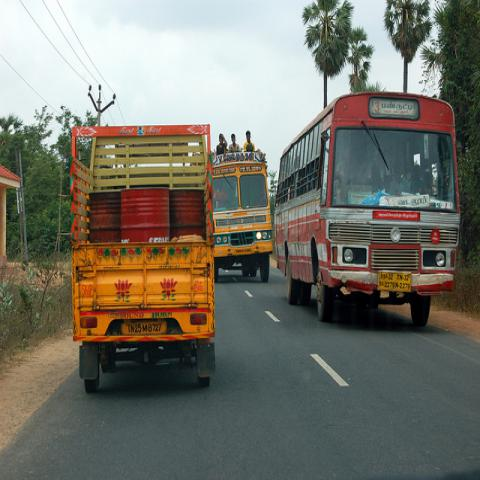bus: (273, 90, 461, 330)
truck: (70, 125, 217, 395), (213, 151, 274, 284)
